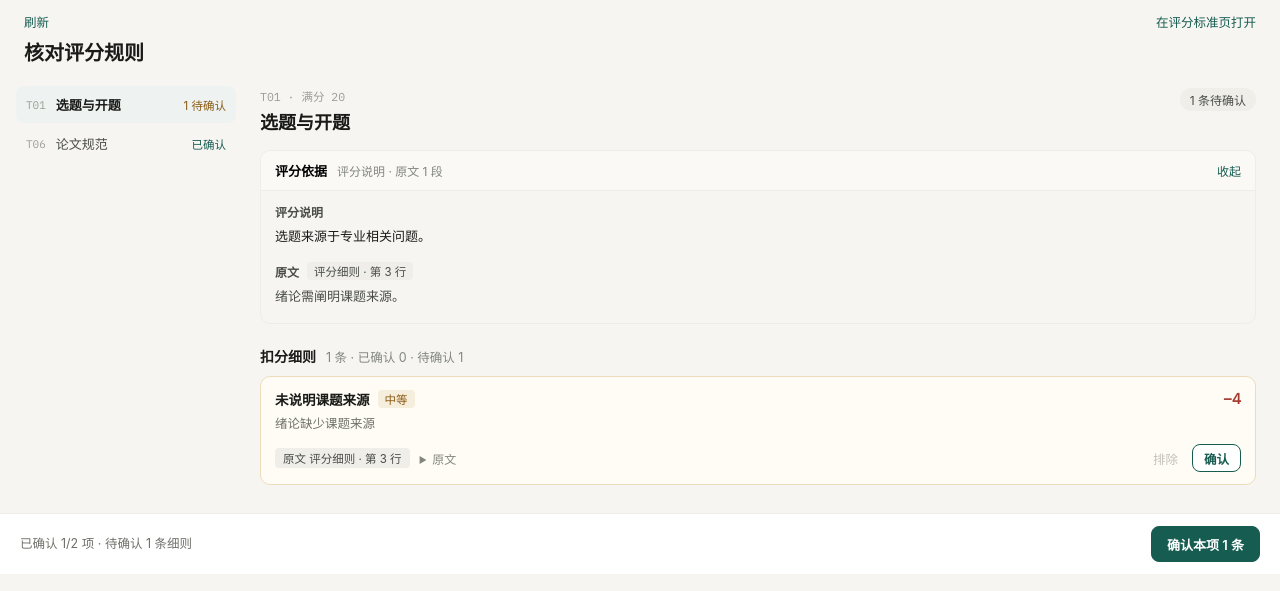
核对评分规则：逐项确认后发布，确认与发布走评分标准页同一组接口，发布后马上接着走流程
Expected: the button with class "nav-item" shows "选题与开题", [16,86,236,123]
Expected: the element with class "basis-body" shows "选题来源于专业相关问题。", [275,228,431,244]
Click the button with test id "review-primary" at [1205, 544], box [1151,526,1260,562]
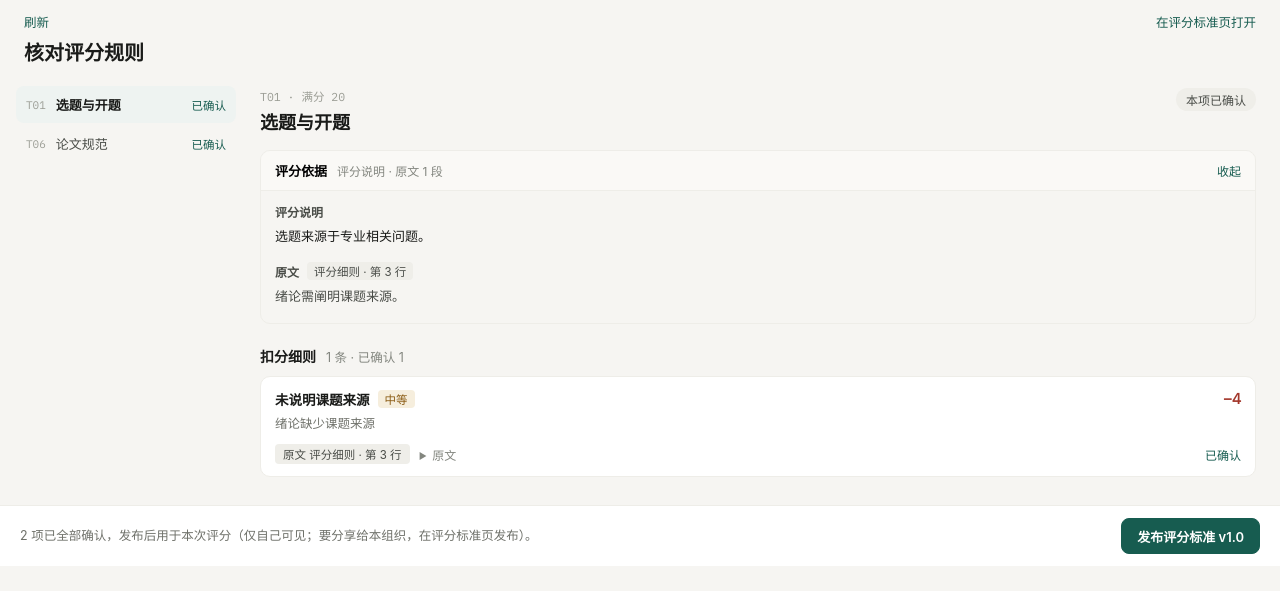
Expected: the button with test id "review-primary" reads "发布评分标准 v1.0"
Click the button with test id "review-primary" at [1191, 536], box [1121,518,1260,554]
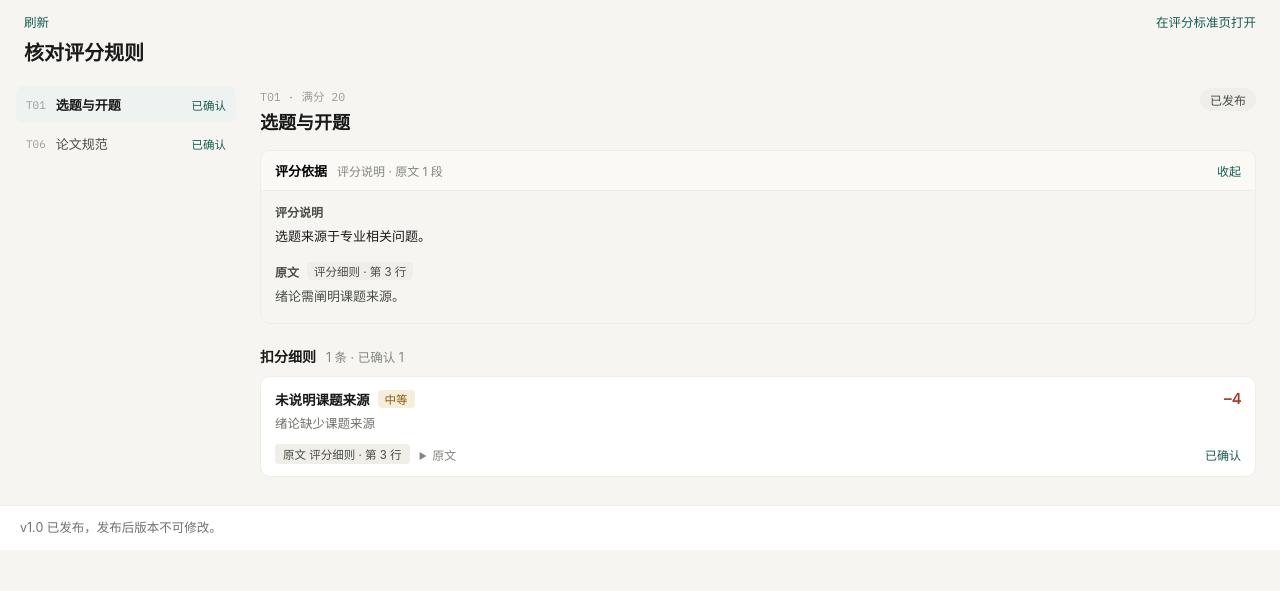
Expected: the text "v1.0 已发布" is shown, [20,520,222,535]
